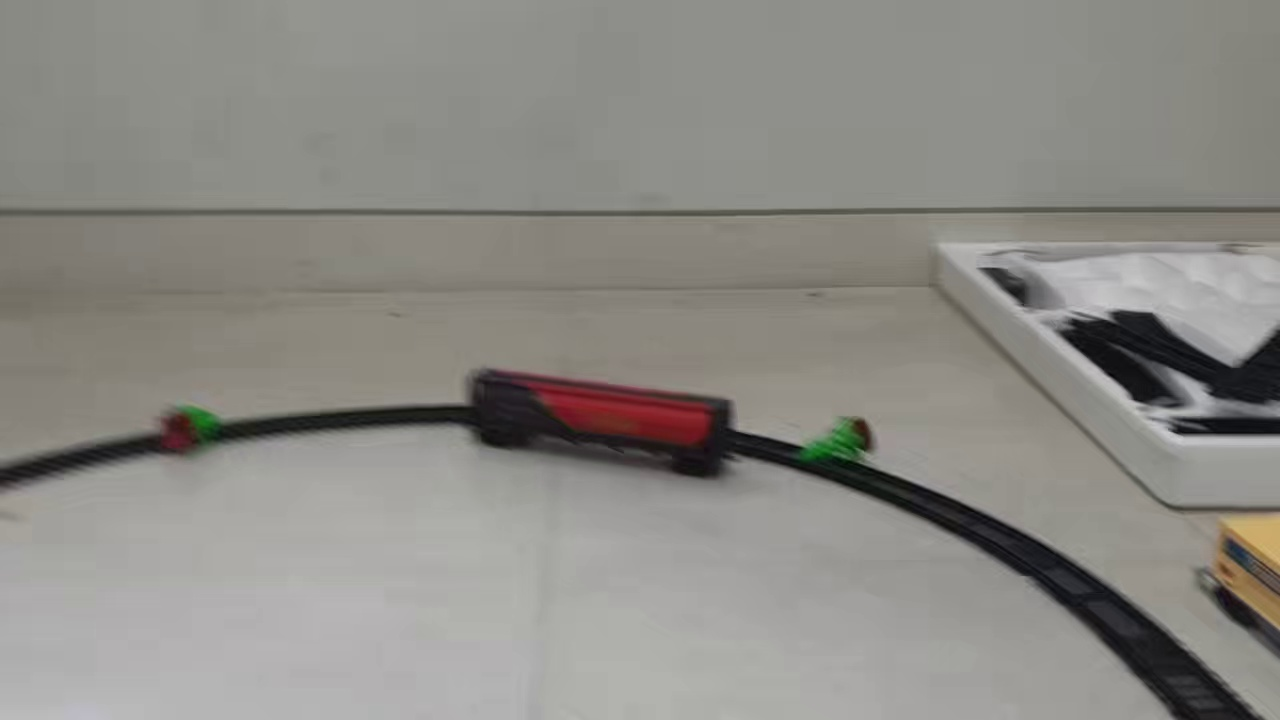tree: (783, 413, 878, 467), (156, 399, 223, 456)
